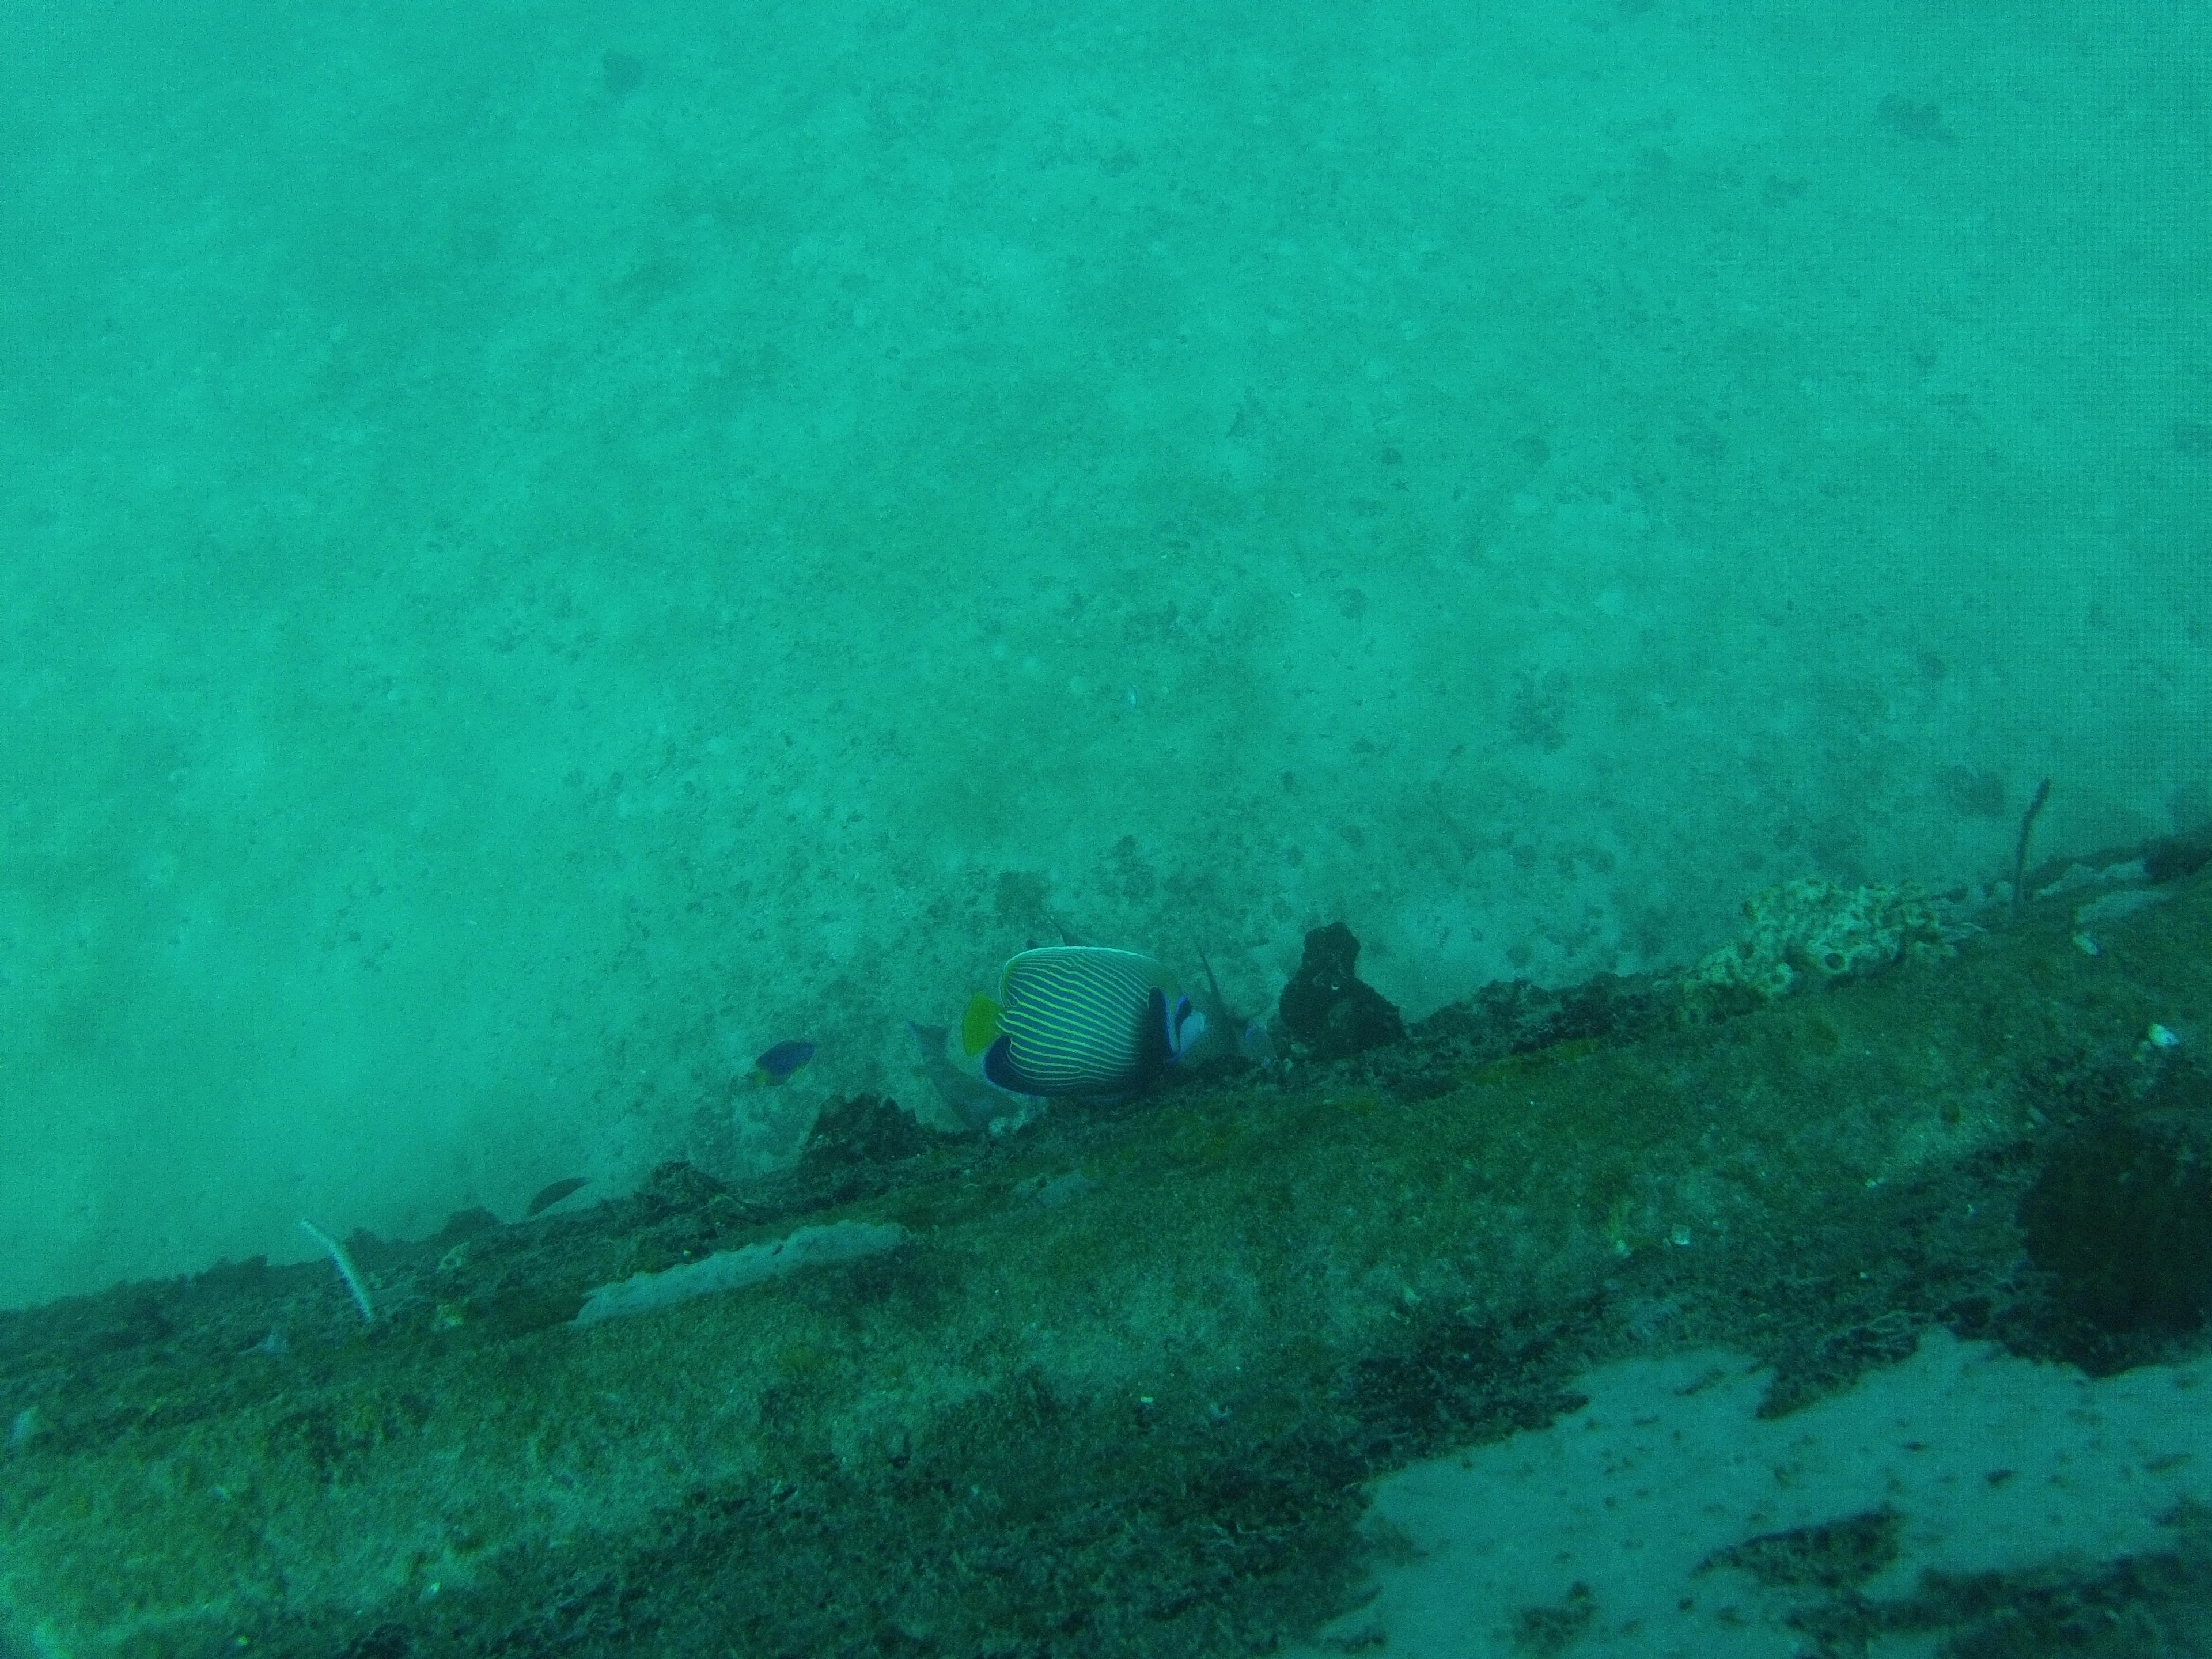Fish: (934, 910, 1271, 1134)
